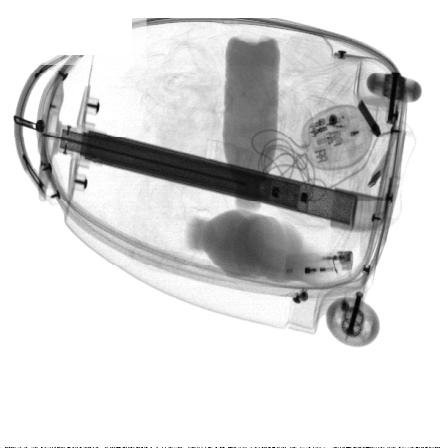Lighter: (284, 251, 354, 276)
